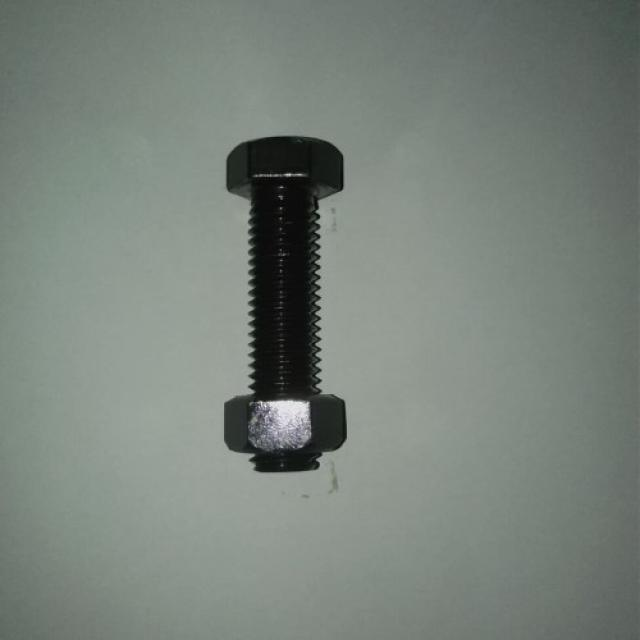Logam: (191, 113, 373, 494)
